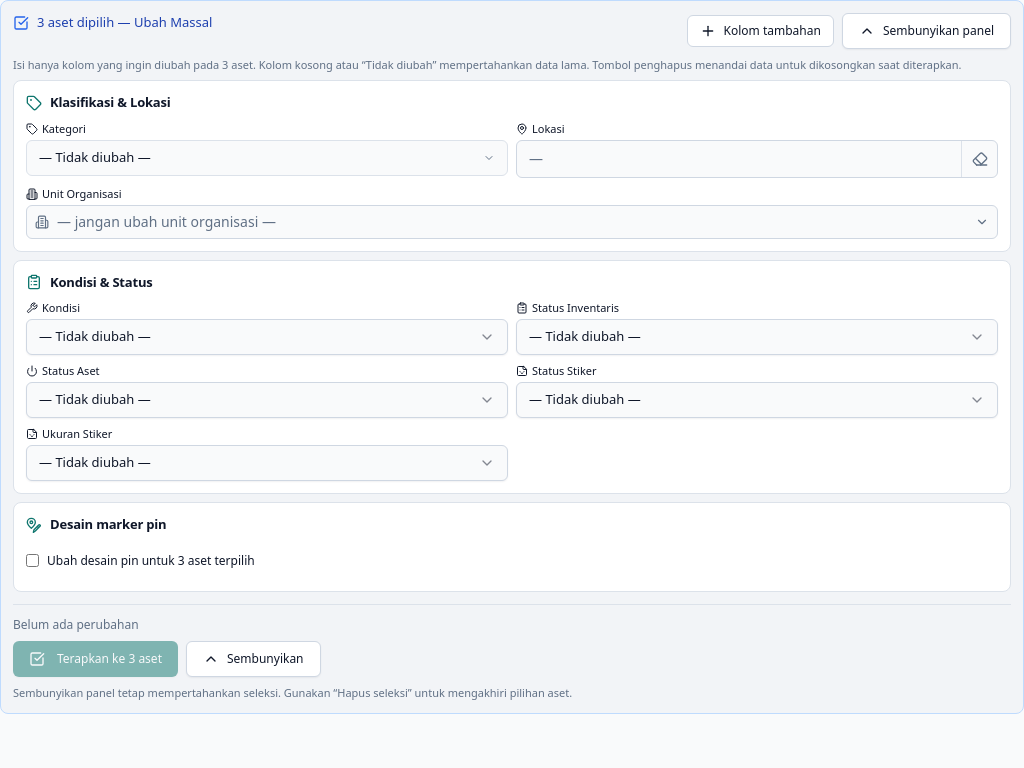
baris peresetnya berkata jangan ubah, bukan kosongkan
Click the button with test id "batch-unit-pemicu" at (166, 221), box [26, 205, 998, 239]
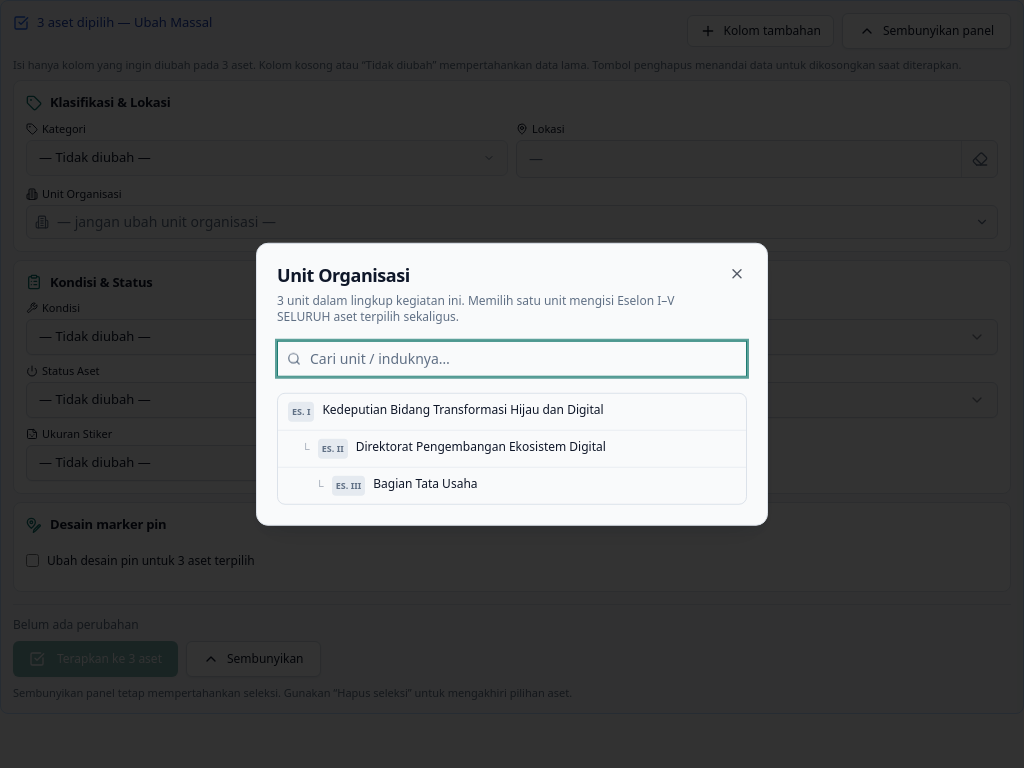
Click the button "└ Es. II Direktorat Pengembangan Ekosistem Digital" at (512, 448), box [278, 429, 746, 466]
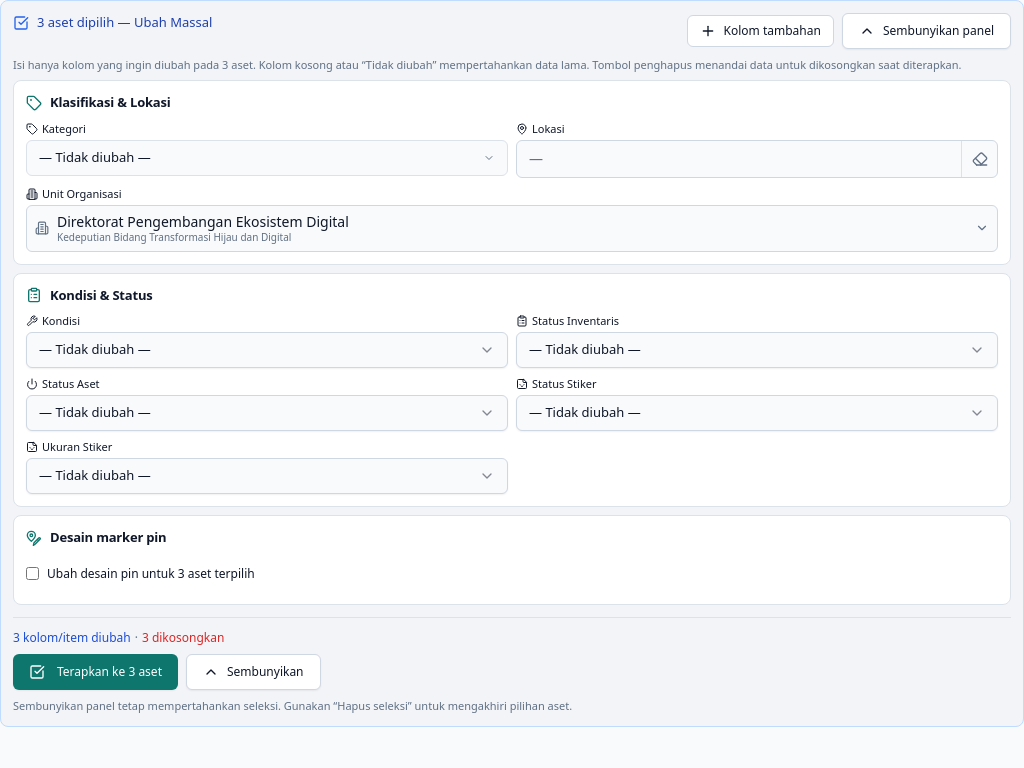
Expected: the element with test id "batch-unit-daftar" is gone
Click the button with test id "batch-unit-pemicu" at (203, 221), box [26, 205, 998, 252]
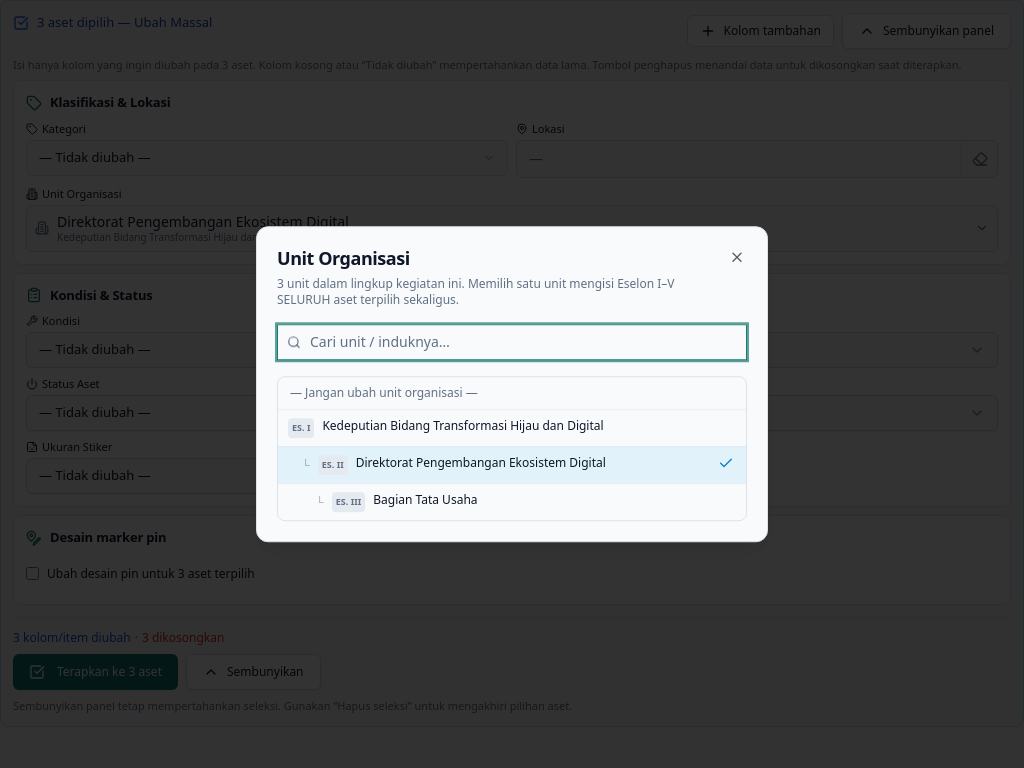
Expected: the button with test id "batch-unit-kosongkan" does not show "kosongkan pilihan", [278, 377, 746, 409]
Expected: the button with test id "batch-unit-kosongkan" shows "Jangan ubah", [278, 377, 746, 409]
